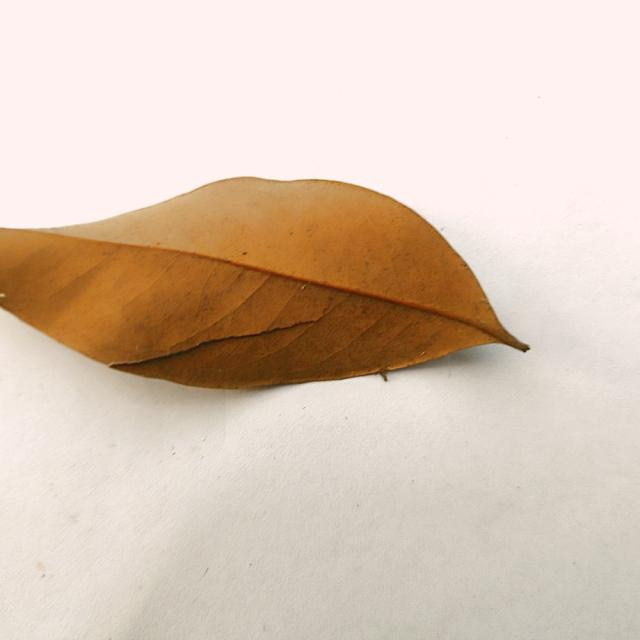Dry_Leaf-Lychee: (0, 177, 530, 393)
